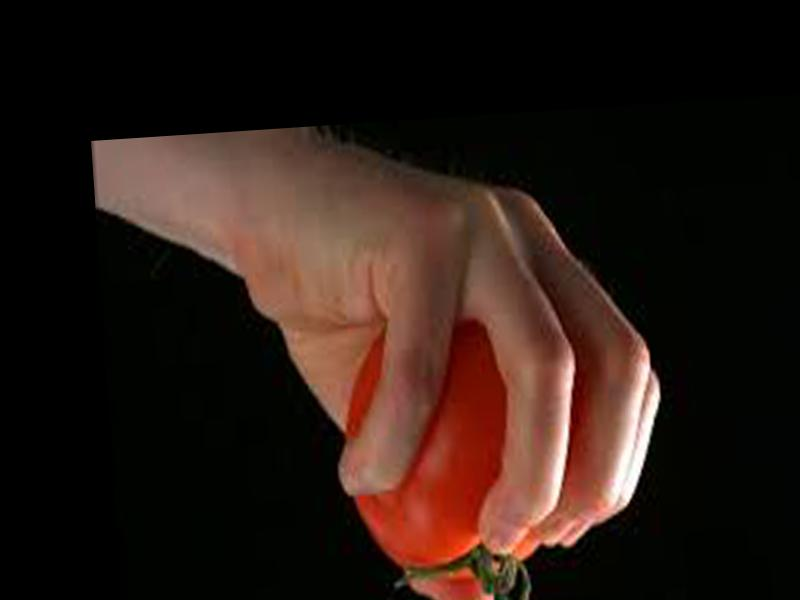Tomato: (338, 308, 544, 574)
